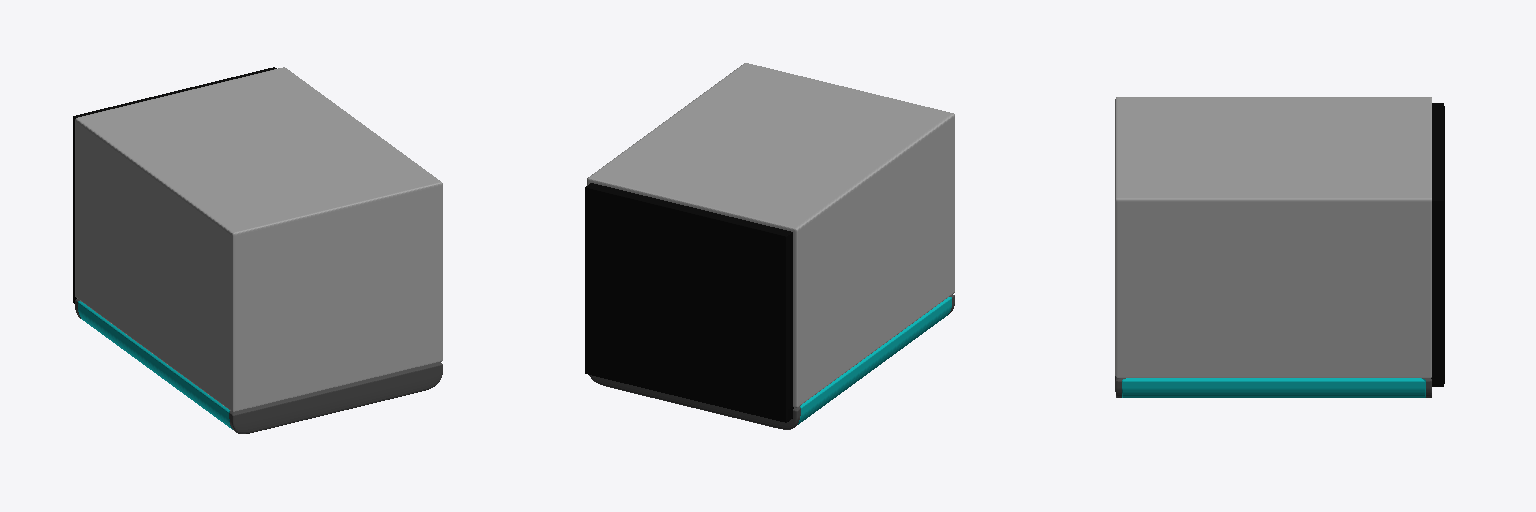
The model's file is 11636_Diswasher_v1_L3.obj.
3 renders of one model, left to right at view 1: azimuth 30°, elevation 25°; view 2: azimuth 150°, elevation 25°; view 3: azimuth 270°, elevation 25°, orthographic.
Visible parts, largest first — view 1: Diswasher_body, Diswasher_covers, Diswasher_door, Diswasher_stand; view 2: Diswasher_body, Diswasher_stand, Diswasher_door, Diswasher_covers; view 3: Diswasher_body, Diswasher_door, Diswasher_stand.
Boxes of the visible parts, <box> form: Diswasher_body: <box>75,67,442,411</box>; Diswasher_covers: <box>75,299,442,433</box>; Diswasher_door: <box>78,301,232,429</box>; Diswasher_stand: <box>73,67,276,303</box>; Diswasher_body: <box>587,63,954,407</box>; Diswasher_stand: <box>585,183,793,422</box>; Diswasher_door: <box>798,297,951,424</box>; Diswasher_covers: <box>589,294,954,429</box>; Diswasher_body: <box>1115,97,1431,377</box>; Diswasher_door: <box>1122,378,1425,397</box>; Diswasher_stand: <box>1431,103,1444,386</box>.
Bounding box in the file's own units: 63.49 × 62.33 × 85.89.